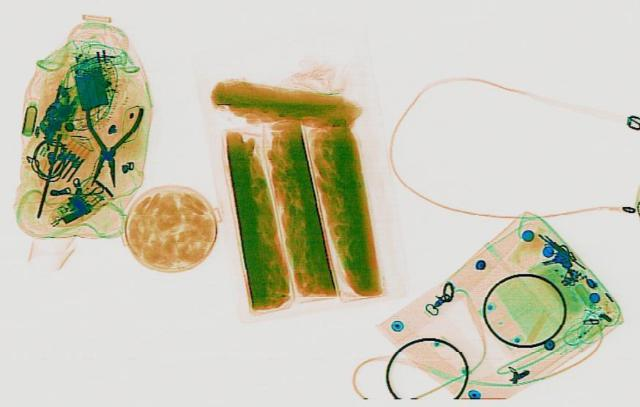Pliers: (70, 102, 144, 188)
